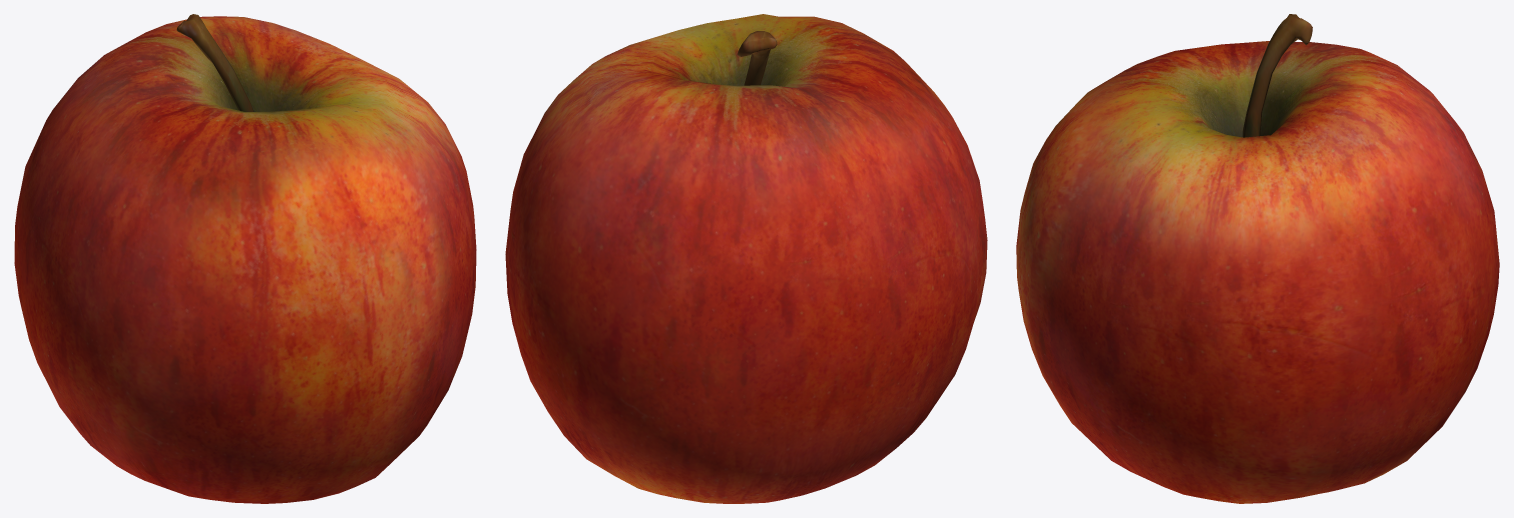
File: apple.obj
3 renders of one model, left to right at view 1: azimuth 30°, elevation 25°; view 2: azimuth 150°, elevation 25°; view 3: azimuth 270°, elevation 25°, orthographic. The views are drawn at different scales.
Visible parts, largest first — view 1: apple_low_obj_Material_#35_0; view 2: apple_low_obj_Material_#35_0; view 3: apple_low_obj_Material_#35_0.
Part boxes in pixels (x1,y1,x2,y2): apple_low_obj_Material_#35_0: [14, 14, 476, 503]; apple_low_obj_Material_#35_0: [505, 14, 987, 503]; apple_low_obj_Material_#35_0: [1016, 14, 1499, 503].
Size of the model in its own units: 0.0901 by 0.0938 by 0.0969.
Materials: 1 (1 with a texture image).
